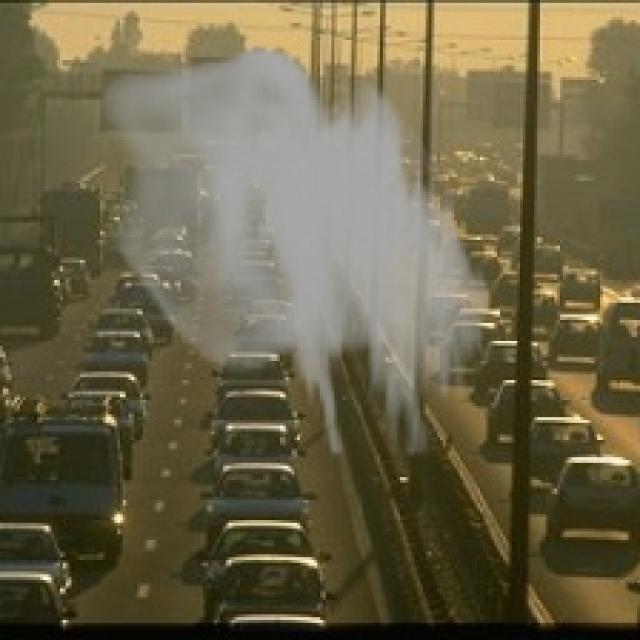Smoke: (100, 46, 494, 457)
